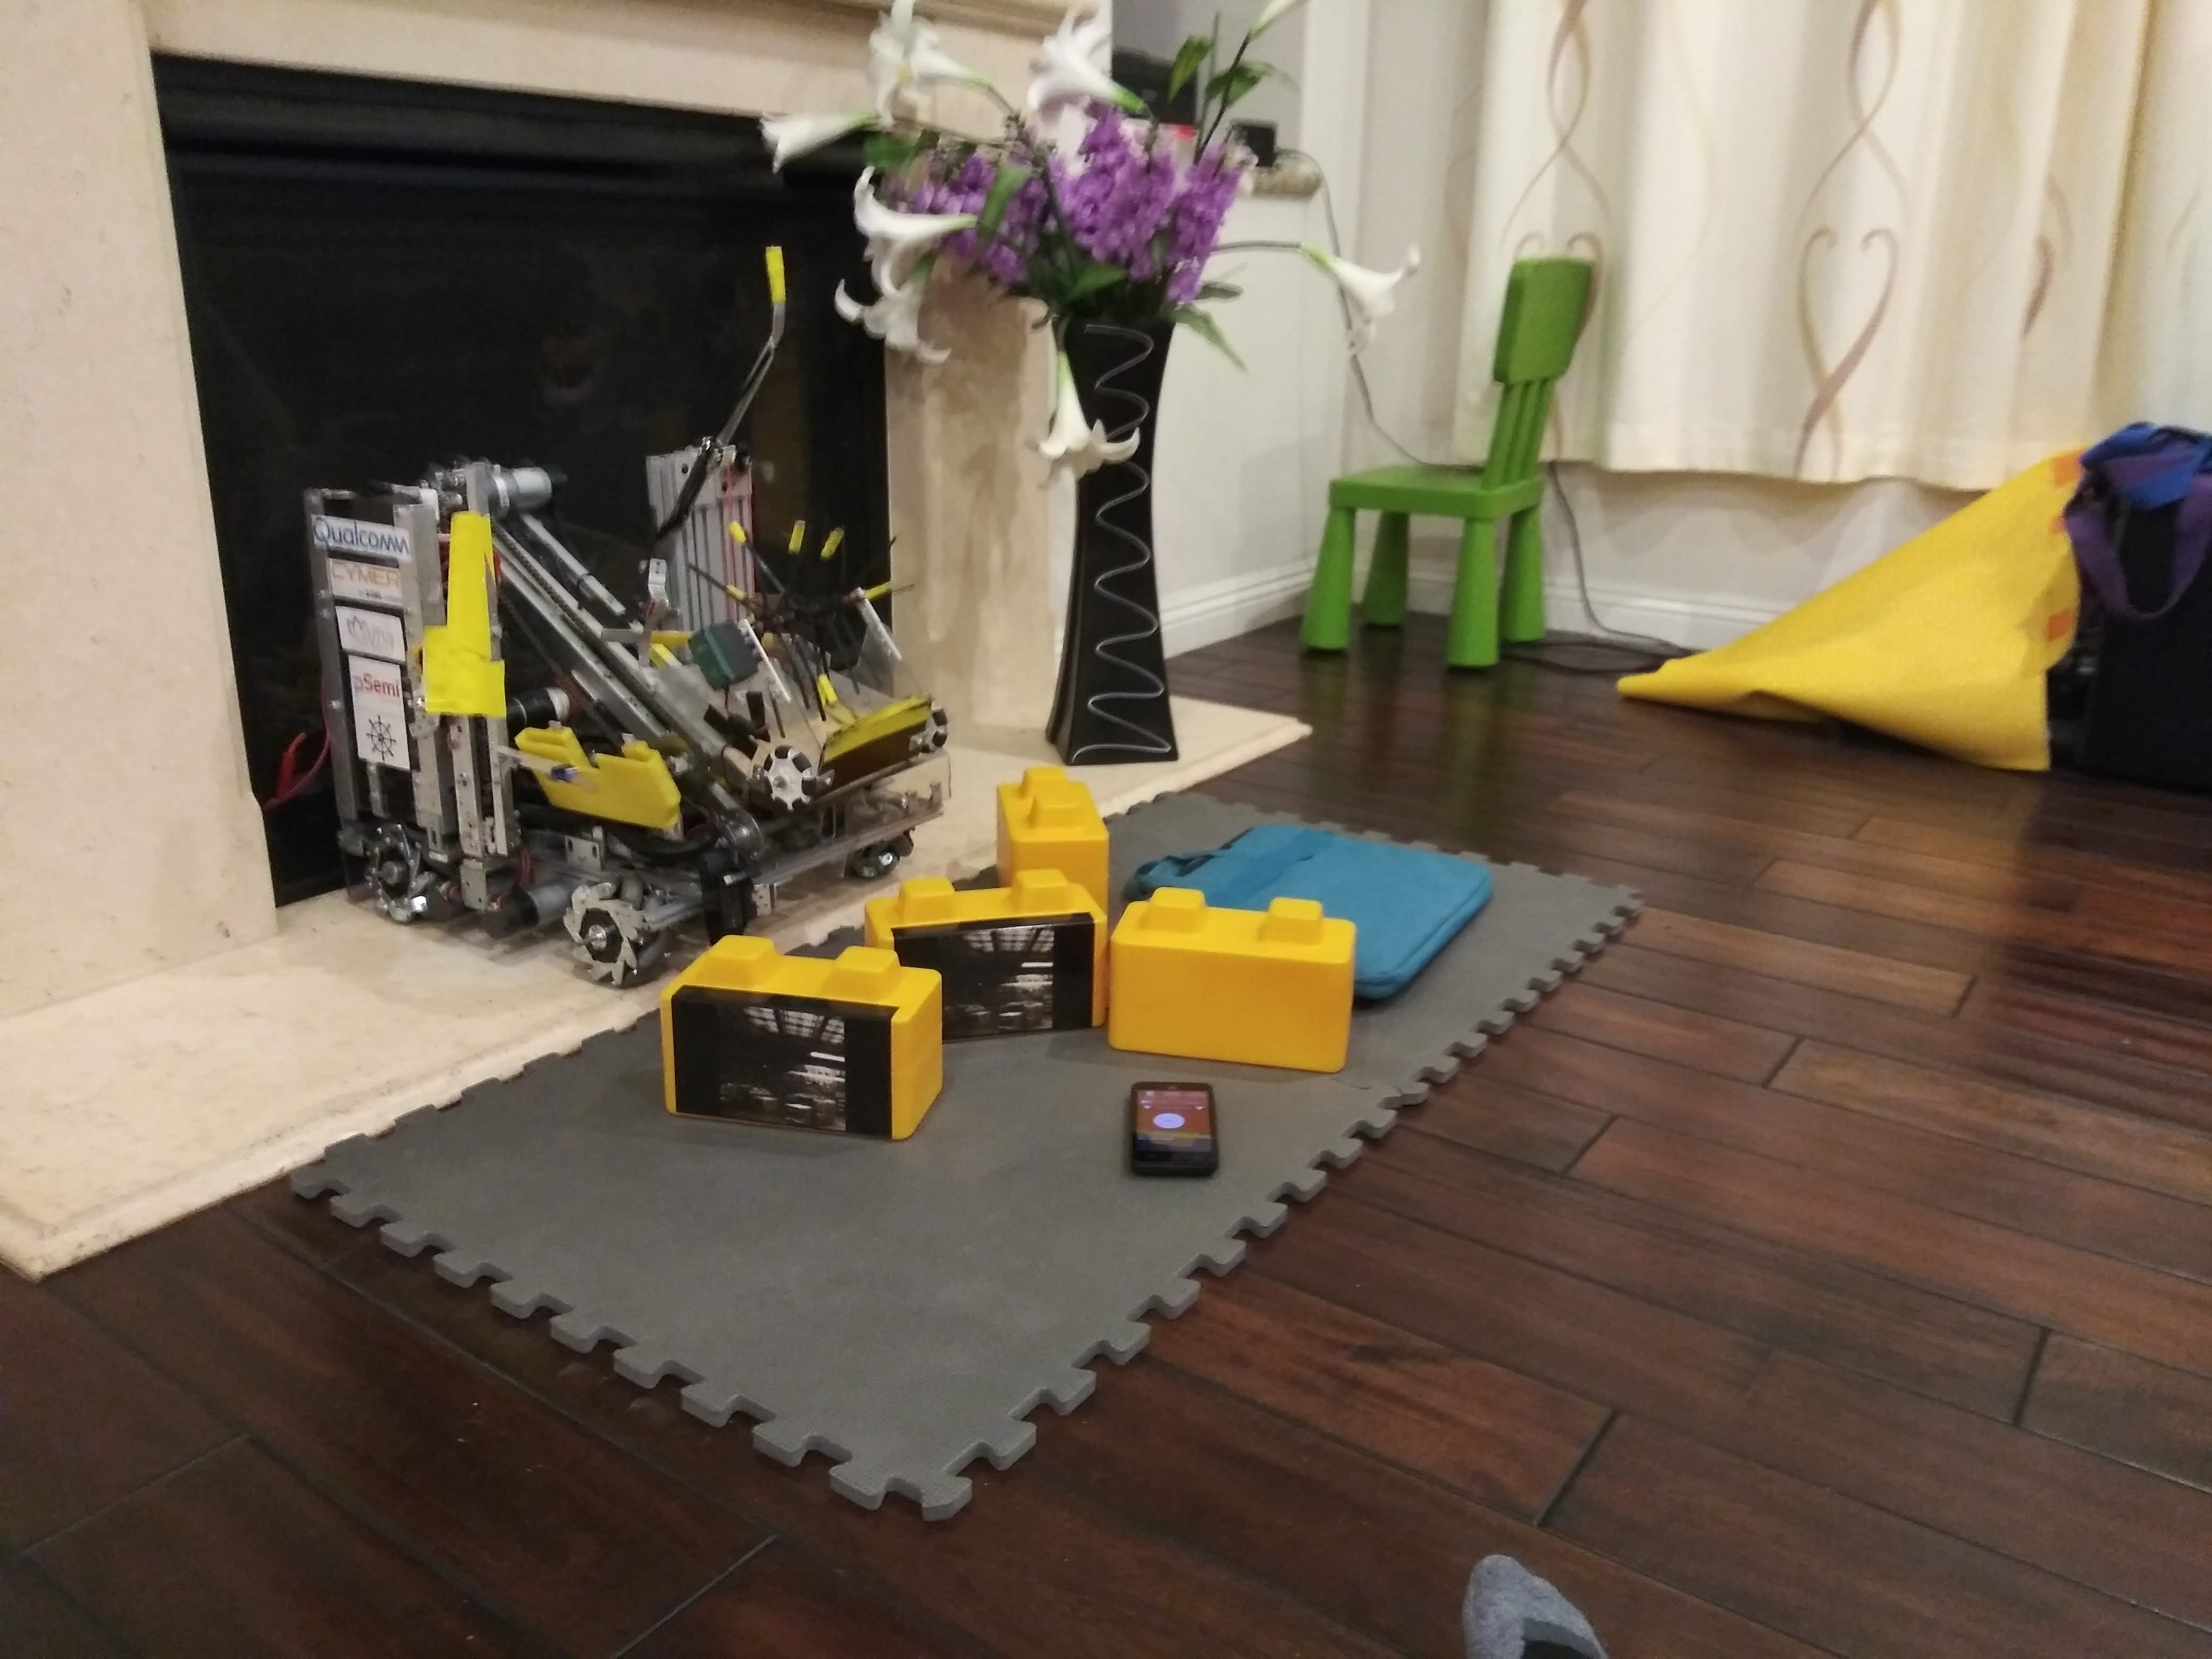skystone: (653, 955, 925, 1136), (934, 915, 1099, 1042)
stone: (1130, 918, 1357, 1072), (989, 775, 1123, 877)
